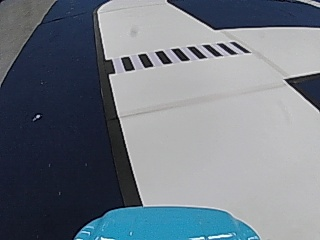CrossWalk: (107, 41, 247, 71)
